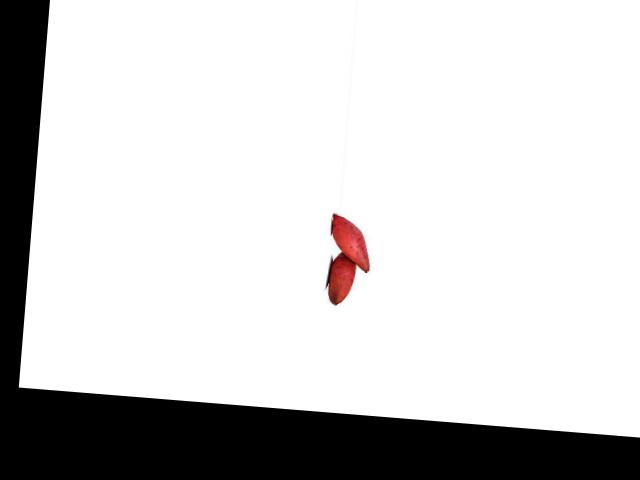sweet_potato: (326, 246, 360, 308)
